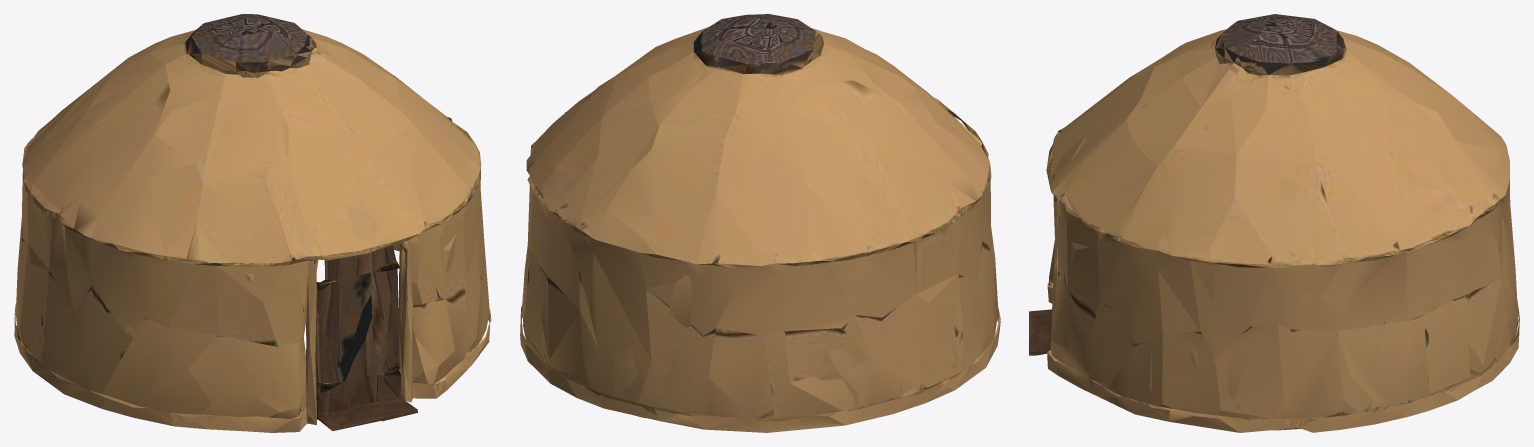
The model's file is b09_yurt.glb.
The picture shows the model from 3 angles, left to right: view 1: azimuth 30°, elevation 25°; view 2: azimuth 150°, elevation 25°; view 3: azimuth 270°, elevation 25°; orthographic projection.
Visible parts, largest first — view 1: GLTF; view 2: GLTF; view 3: GLTF.
Boxes of the visible parts, x1,y1,x2,y2 form: GLTF: (14,14,491,432); GLTF: (520,14,1000,432); GLTF: (1029,14,1519,432).
Size of the model in its own units: 0.9833 by 0.6905 by 1.
Materials: 1 (1 with a texture image).
